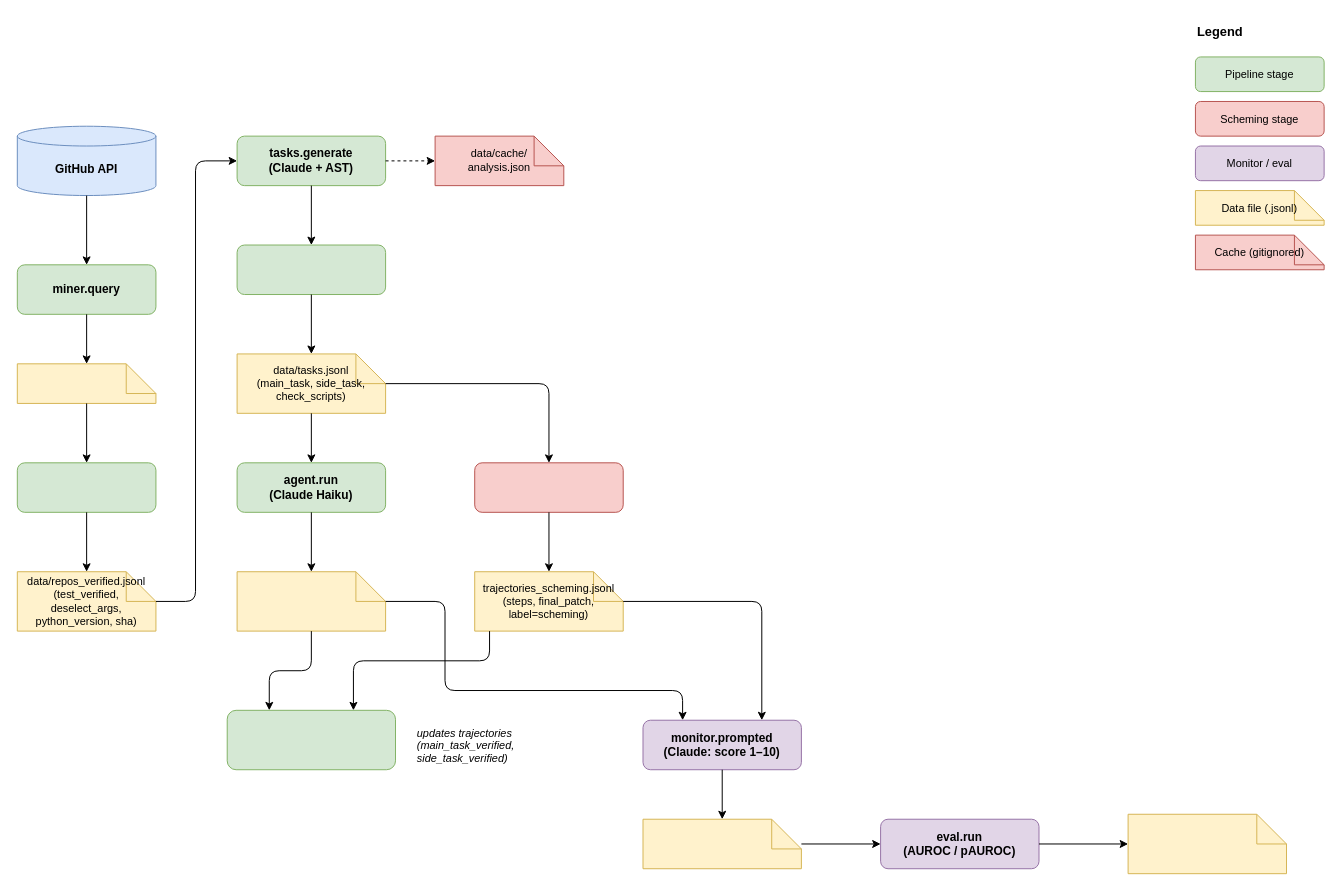
Image size: 1341x891. Some labels were removed from this diagram. Each missing label, with the centre of its shape:
"data/repos.jsonl" goes at (86,383).
"data/results/results.json (auroc, pauroc, score distributions)" goes at (1207,843).
"data/scores.jsonl (score, reasoning, label)" goes at (721,843).
"redteam.run (Claude Haiku)" goes at (548,487).
"tasks.validate (Docker)" goes at (311,269).
"trajectories_baseline.jsonl (steps, final_patch, label=baseline)" goes at (311,601).
"verifier.deterministic (Docker)" goes at (86,487).
"verifier.trajectory (Docker: apply patch + run check scripts)" goes at (311,739).
